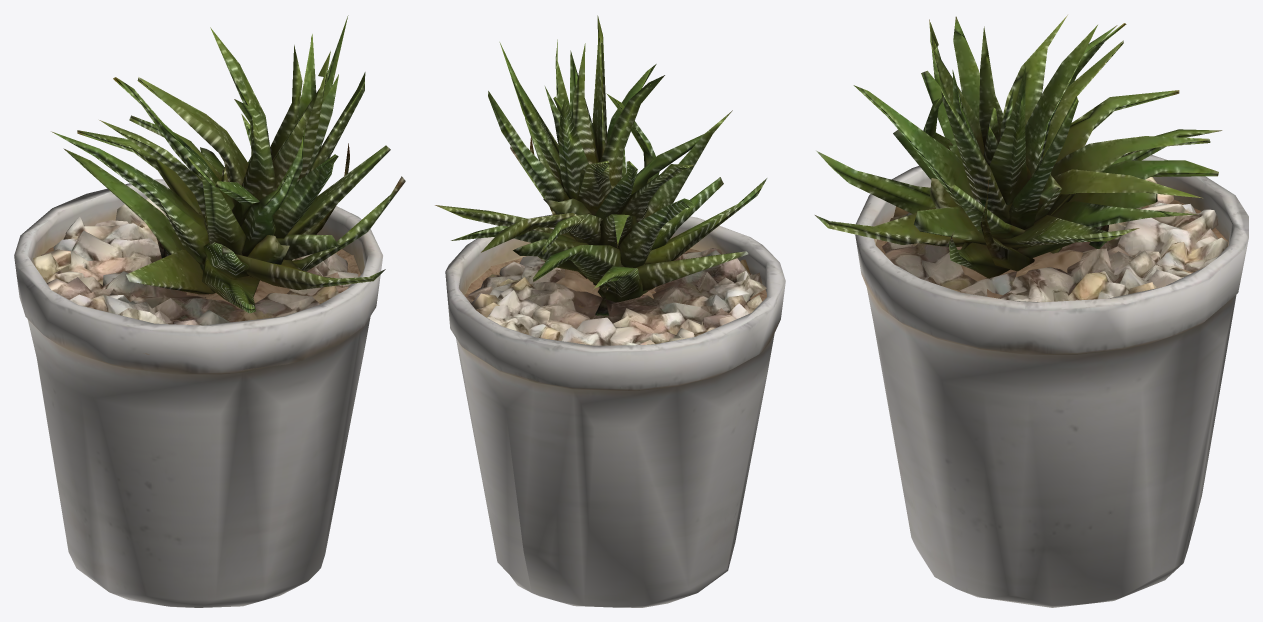
File: potted_plant_04.glb
The picture shows the model from 3 angles, left to right: view 1: azimuth 30°, elevation 25°; view 2: azimuth 150°, elevation 25°; view 3: azimuth 270°, elevation 25°; orthographic projection. The views are drawn at different scales.
Visible parts, largest first — view 1: potted_plant_04_ground; view 2: potted_plant_04_ground; view 3: potted_plant_04_ground.
Part boxes in pixels (x1,y1,x2,y2): potted_plant_04_ground: (14, 15, 405, 607); potted_plant_04_ground: (435, 15, 785, 607); potted_plant_04_ground: (815, 15, 1248, 607).
Bounding box in the file's own units: 0.1669 × 0.2672 × 0.1831.
Materials: 1 (1 with a texture image).
